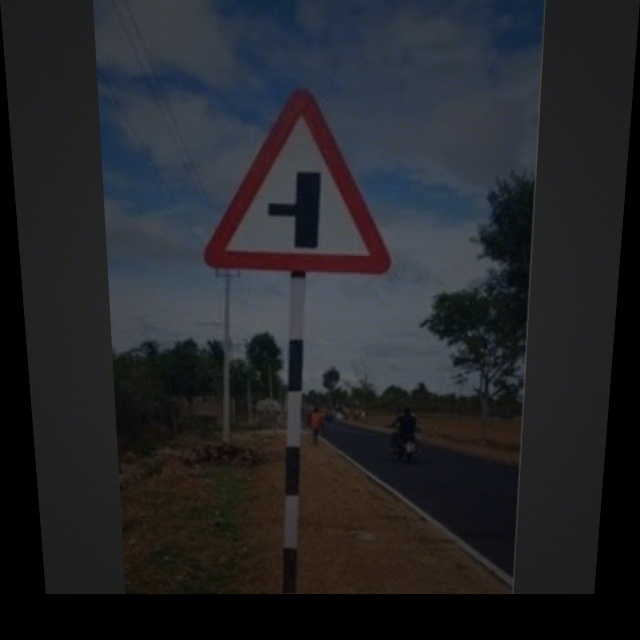Side_Road_Left: (202, 91, 396, 281)
